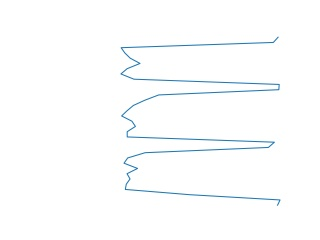majorRiverChannelBar: (115, 34, 285, 208)
